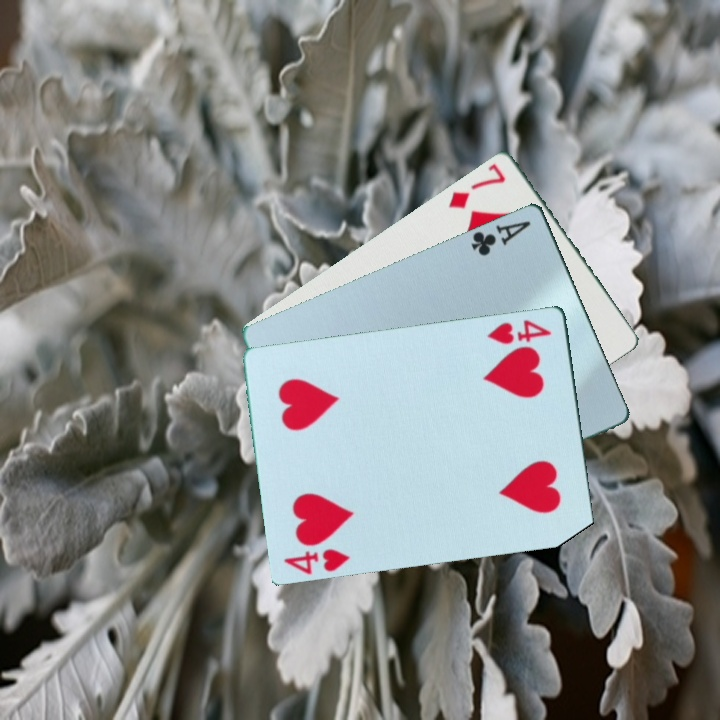4h: (281, 544, 353, 577), (483, 315, 555, 347)
7d: (444, 159, 509, 211)
Ac: (468, 216, 534, 259)
